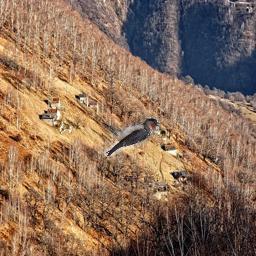Swallow: (102, 118, 162, 157)
